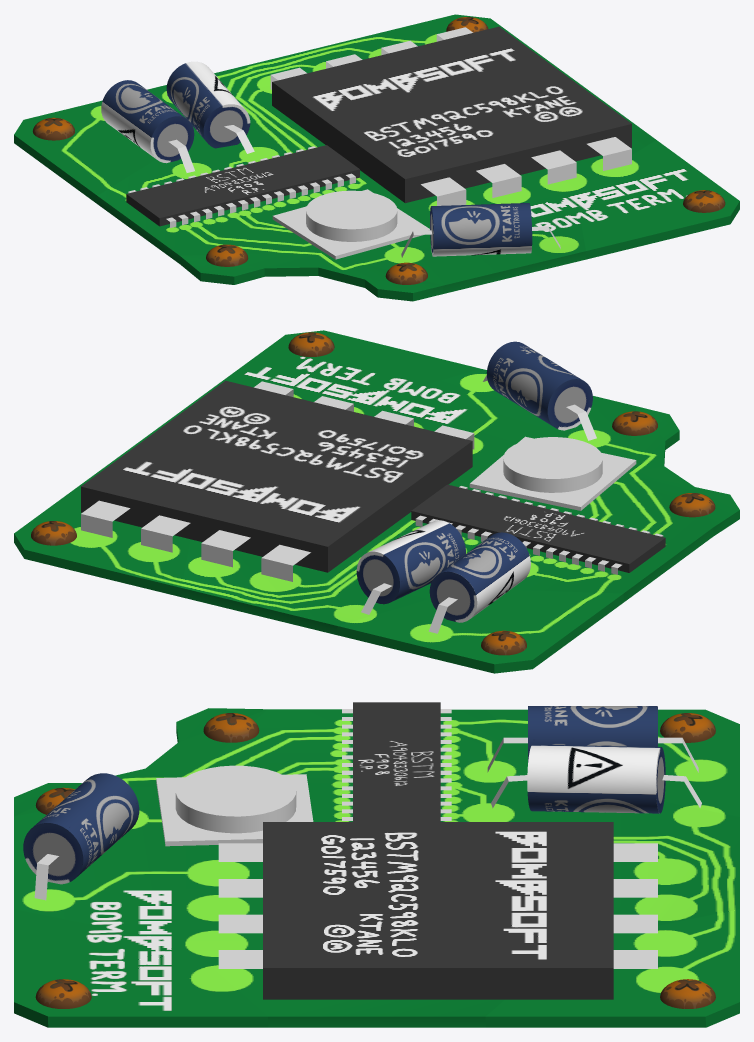
Rendered from computer board.fbx.
3 renders of one model, top to bottom at view 1: azimuth 30°, elevation 25°; view 2: azimuth 150°, elevation 25°; view 3: azimuth 270°, elevation 25°, orthographic. The views are drawn at different scales.
Visible parts, largest first — view 1: board, Cube, Cube.001, Cylinder.003, Plane, Cylinder.001, Cylinder.002, Cylinder, Cube.002, Plane.001, Sphere.002, Sphere (+2 smaller); view 2: board, Cube, Cube.001, Plane, Cylinder.003, Cylinder.001, Cylinder.002, Cylinder, Cube.002, Plane.001, Sphere, Sphere.002 (+3 smaller); view 3: board, Cube, Cube.001, Cylinder.002, Cylinder.003, Plane, Cylinder, Cylinder.001, Cube.002, Plane.001, Sphere.002, Sphere.001 (+6 smaller).
Part boxes in pixels (x1,y1,x2,y2): board: (14, 14, 739, 301); Cube: (272, 26, 631, 203); Cube.001: (126, 145, 359, 226); Cylinder.003: (430, 203, 532, 256); Plane: (270, 27, 631, 205); Cylinder.001: (101, 80, 194, 163); Cylinder.002: (166, 61, 250, 148); Cylinder: (306, 190, 397, 241); Cube.002: (272, 189, 429, 259); Plane.001: (128, 146, 355, 227); Sphere.002: (683, 190, 725, 212); Sphere: (32, 117, 74, 140); board: (14, 330, 739, 673); Cube: (81, 380, 472, 572); Cube.001: (411, 484, 665, 572); Plane: (81, 381, 474, 581); Cylinder.003: (486, 341, 592, 430); Cylinder.001: (429, 532, 530, 622); Cylinder.002: (356, 520, 465, 604); Cylinder: (503, 437, 602, 492); Cube.002: (469, 436, 636, 510); Plane.001: (415, 486, 663, 574); Sphere: (481, 630, 526, 655); Sphere.002: (288, 332, 334, 356); board: (14, 708, 739, 1027); Cube: (263, 822, 613, 999); Cube.001: (353, 702, 440, 821); Cylinder.002: (527, 744, 665, 813); Cylinder.003: (23, 773, 139, 884); Plane: (218, 843, 657, 968); Cylinder: (175, 765, 296, 833); Cylinder.001: (528, 706, 657, 762); Cube.002: (156, 774, 313, 846); Plane.001: (342, 709, 451, 820); Sphere.002: (35, 979, 91, 1008); Sphere.001: (660, 979, 715, 1008).
Size of the model in its own units: 172 by 22.8 by 171.
